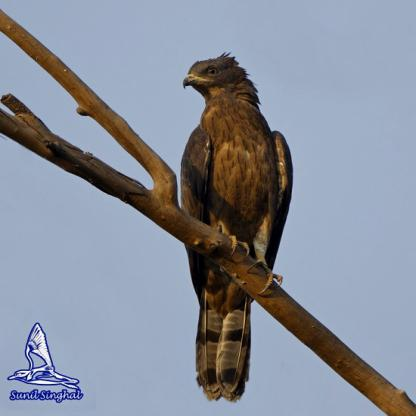Burung: (157, 57, 288, 396)
